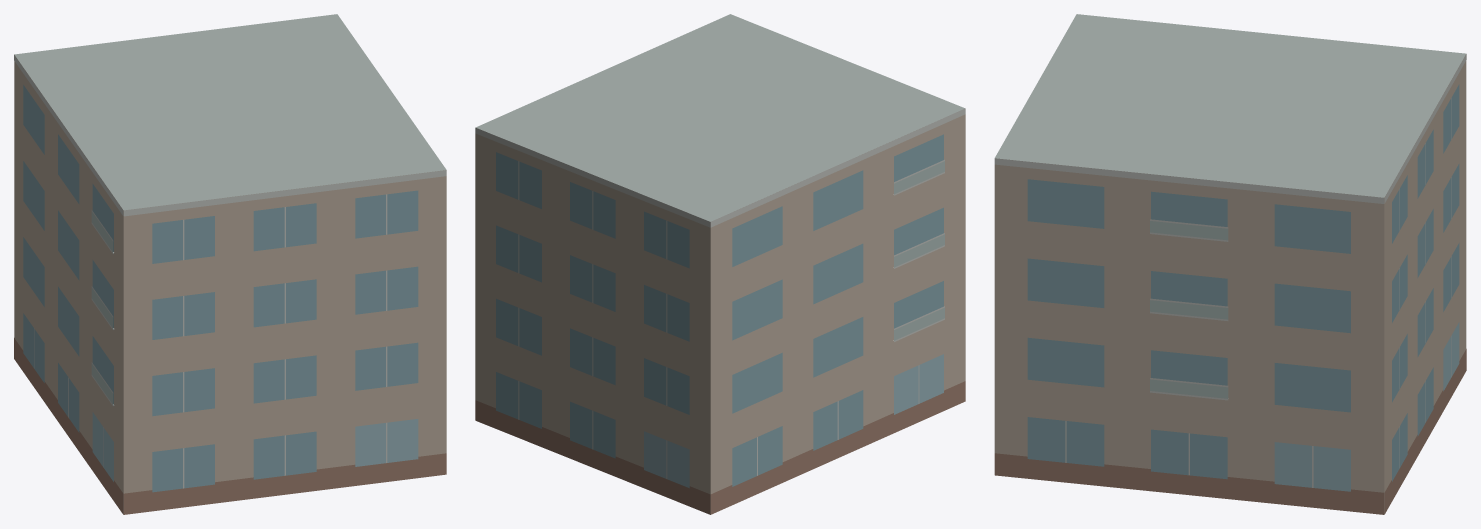
The model's file is residential-aba065bc-9b97-46d7-8e6d-fae053d06187.glb.
The picture shows the model from 3 angles, left to right: view 1: azimuth 30°, elevation 25°; view 2: azimuth 150°, elevation 25°; view 3: azimuth 270°, elevation 25°; orthographic projection. The views are drawn at different scales.
Visible parts, largest first — view 1: residential-aba065bc-9b97-46d7-8e6d-fae053d06187.tmp; view 2: residential-aba065bc-9b97-46d7-8e6d-fae053d06187.tmp; view 3: residential-aba065bc-9b97-46d7-8e6d-fae053d06187.tmp.
Boxes of the visible parts, <box> form: residential-aba065bc-9b97-46d7-8e6d-fae053d06187.tmp: <box>14,14,446,514</box>; residential-aba065bc-9b97-46d7-8e6d-fae053d06187.tmp: <box>475,14,965,514</box>; residential-aba065bc-9b97-46d7-8e6d-fae053d06187.tmp: <box>994,14,1466,514</box>.
Size of the model in its own units: 15.17 by 12.2 by 16.46.
